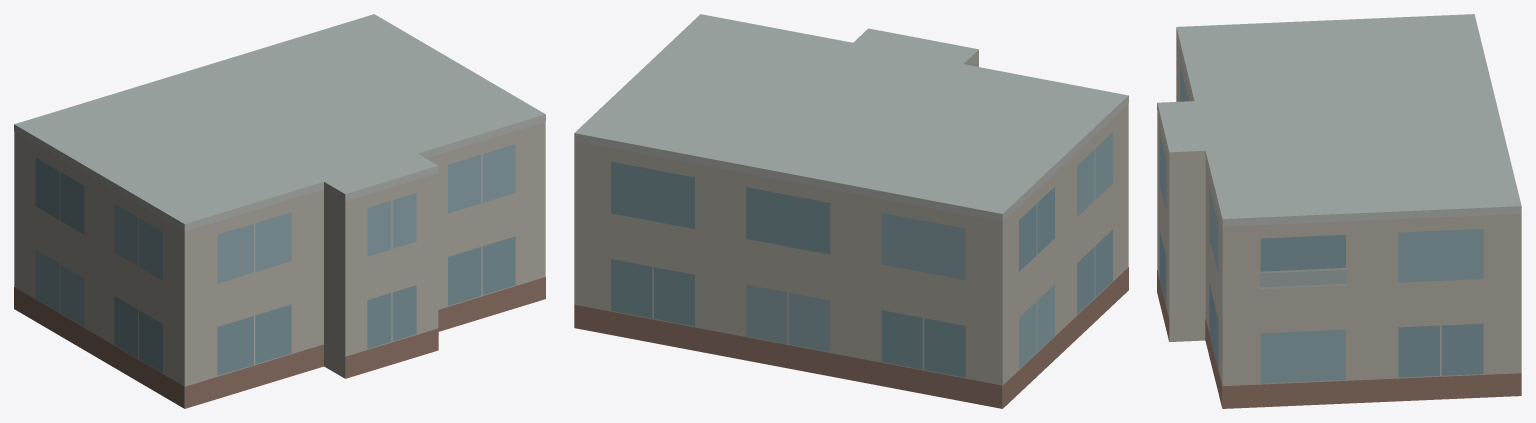
Rendered from survey-upis-32826613.glb.
The picture shows the model from 3 angles, left to right: view 1: azimuth 30°, elevation 25°; view 2: azimuth 150°, elevation 25°; view 3: azimuth 270°, elevation 25°; orthographic projection. The views are drawn at different scales.
Visible parts, largest first — view 1: survey-upis-32826613.tmp; view 2: survey-upis-32826613.tmp; view 3: survey-upis-32826613.tmp.
Boxes of the visible parts, x1,y1,x2,y2 form: survey-upis-32826613.tmp: (14,14,545,408); survey-upis-32826613.tmp: (574,14,1128,408); survey-upis-32826613.tmp: (1157,14,1521,408).
Bounding box in the file's own units: 14.15 × 6.1 × 10.63.
